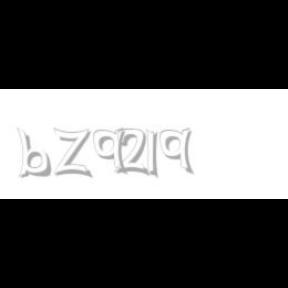2: (114, 128, 148, 176)
Z: (54, 128, 90, 178)
b: (16, 128, 54, 178)
l: (146, 128, 162, 180)
q: (93, 128, 129, 176), (159, 128, 195, 176)
